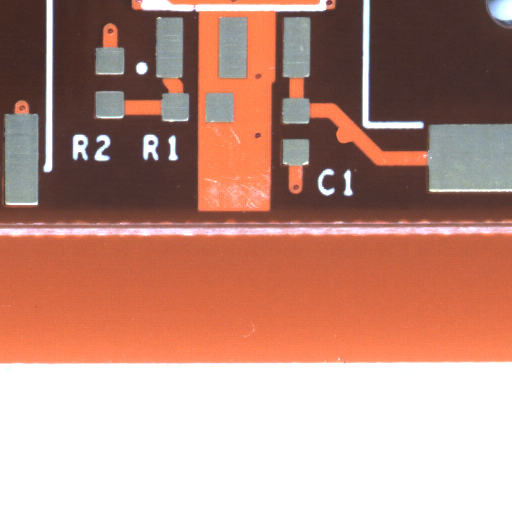Spur: (343, 135, 360, 152)
